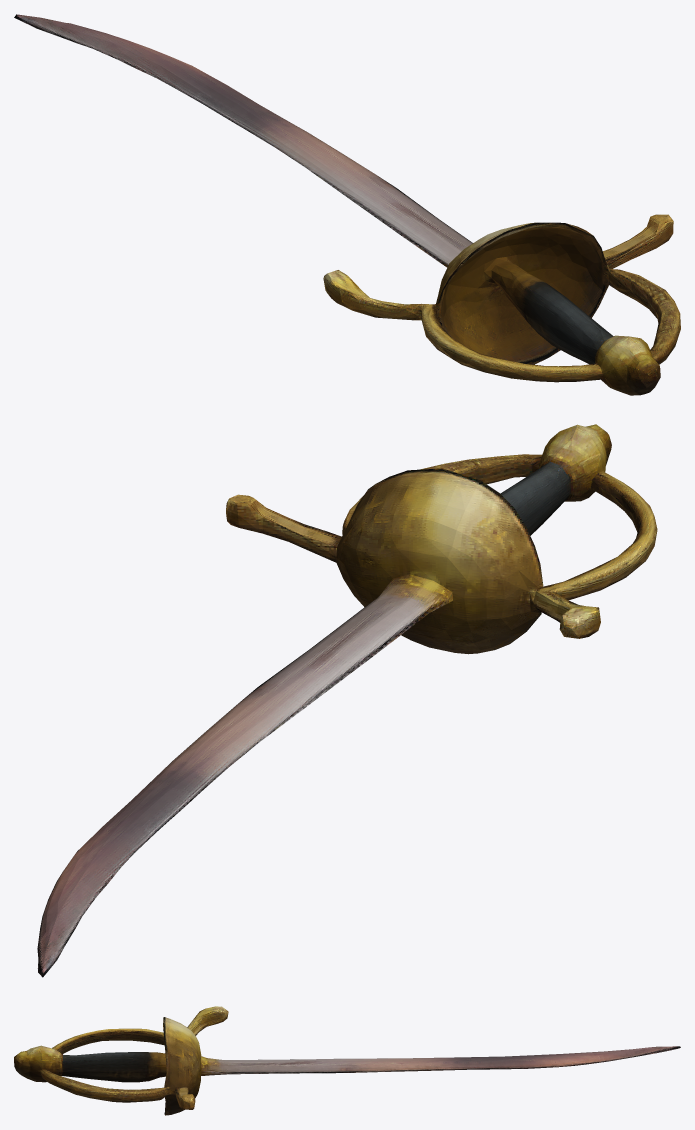
The model's file is fencing_sword_2.glb.
3 views of the same model, one above another, from view 1: azimuth 30°, elevation 25°; view 2: azimuth 150°, elevation 25°; view 3: azimuth 270°, elevation 25° (orthographic). The views are drawn at different scales.
Visible parts, largest first — view 1: world; view 2: world; view 3: world.
Part boxes in pixels (x1,y1,x2,y2): world: (14,14,680,395); world: (37,424,657,977); world: (14,1006,680,1115).
Bounding box in the file's own units: 0.3378 × 0.1437 × 0.9981.
Materials: 1 (1 with a texture image).
